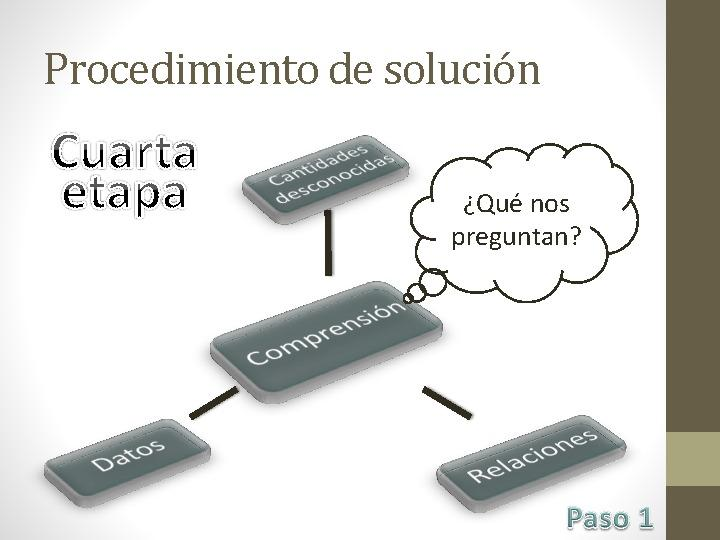title: (40, 37, 568, 110)
